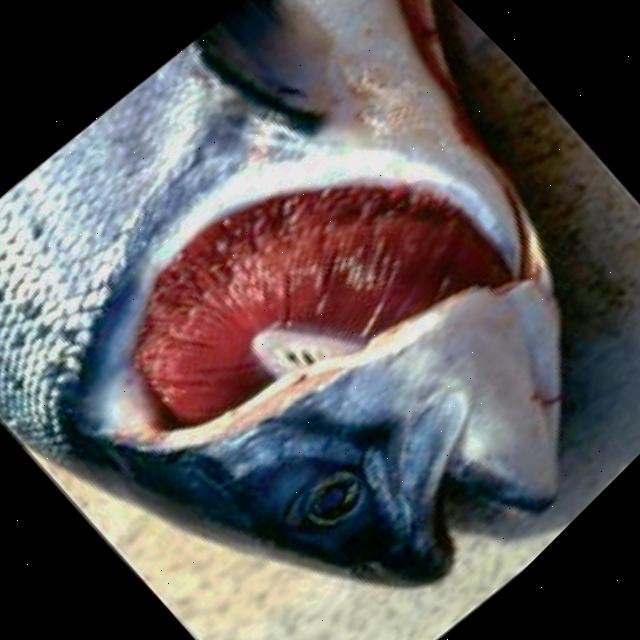Flavobacterium -Bacterial Gill Disease-: (0, 0, 560, 587), (0, 0, 560, 585)
